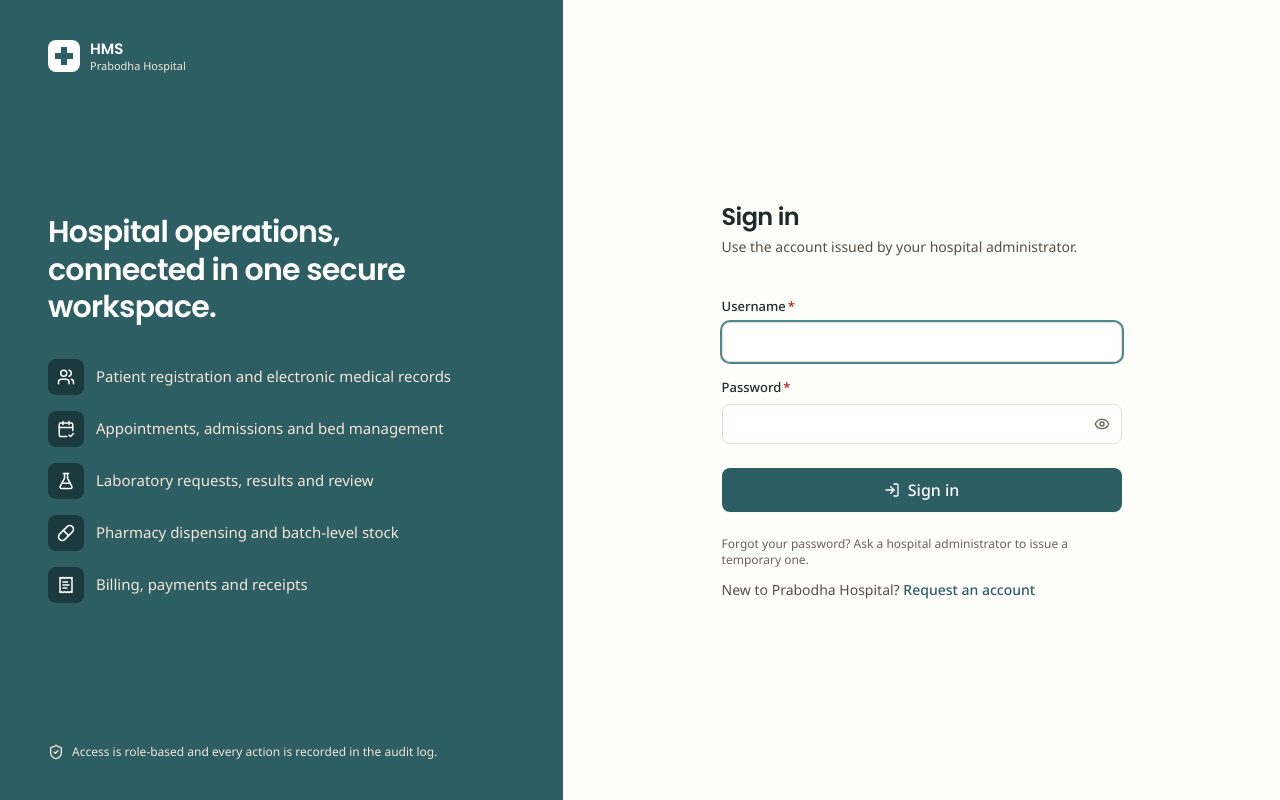
Test: LoginPage › shows the server message on bad credentials and clears the password
The image size is (1280, 800).
Step 1. Type "nimal" into the field labelled "Username*" → (922, 342), box [722,322,1122,362]
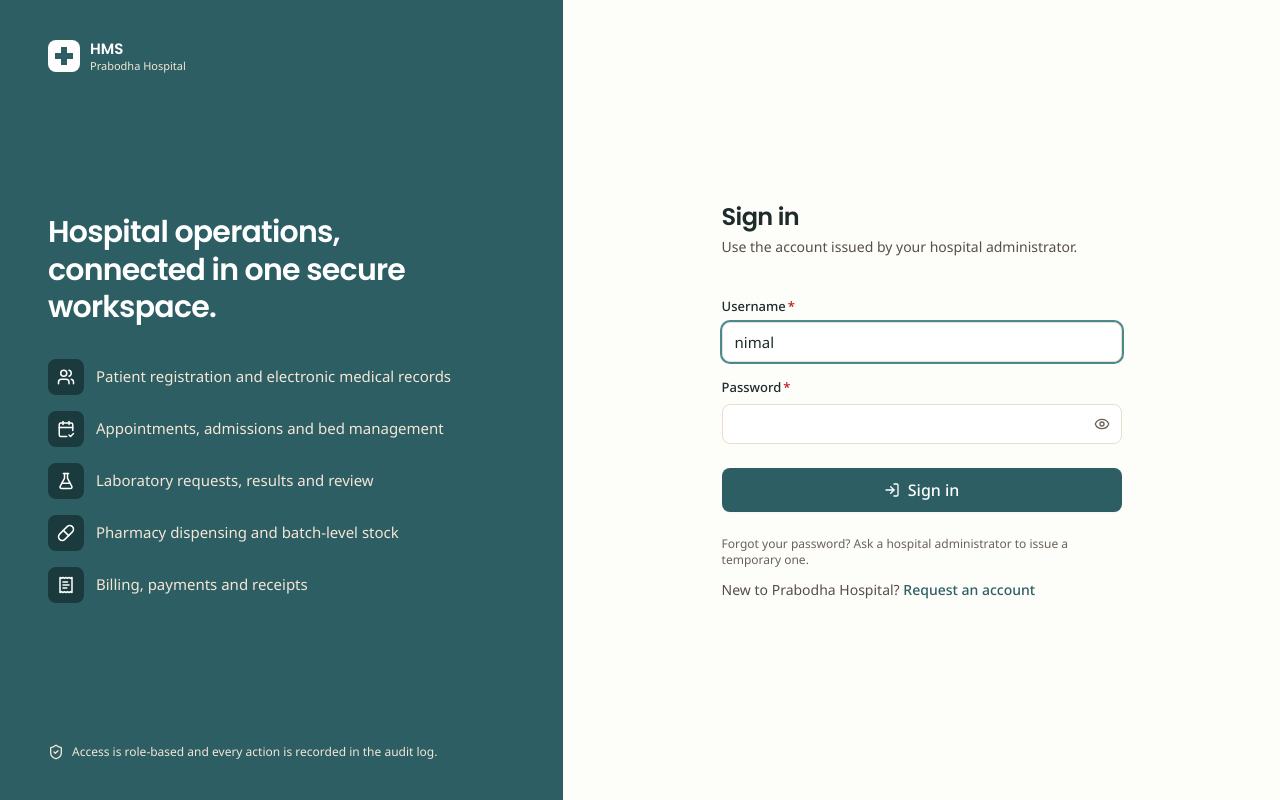
Step 2. Type "wrong-pass-1" into the password field labelled "Password*" → (922, 424), box [722,404,1122,444]
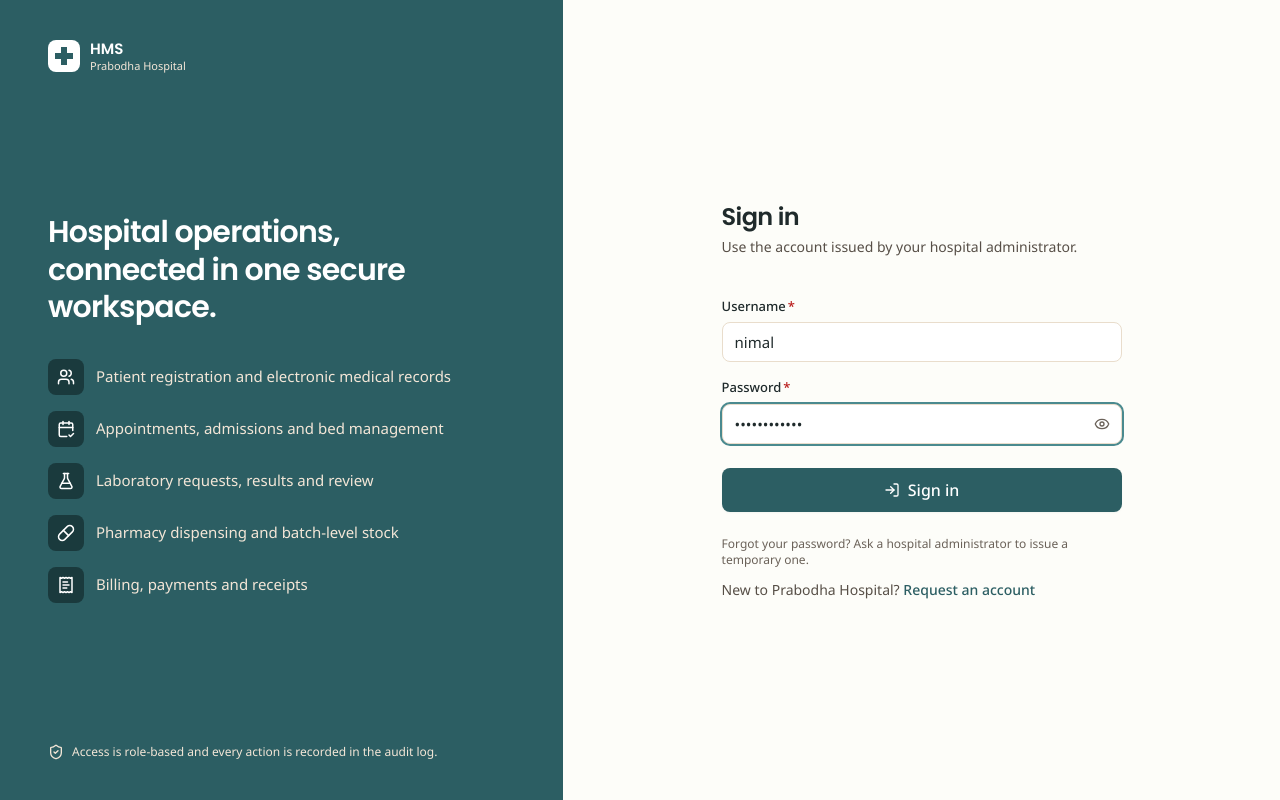
Step 3. Click the button "Sign in" → (922, 490), box [722,468,1122,512]
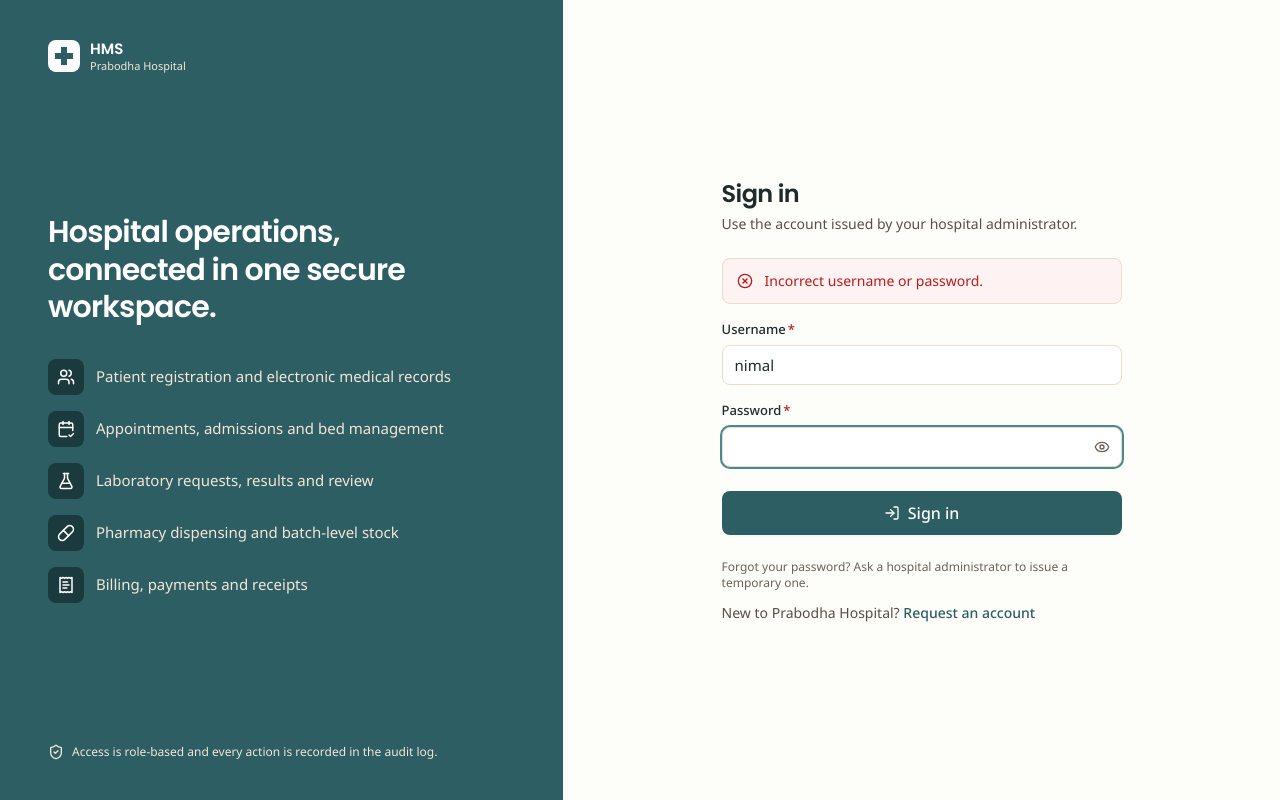
Expected: the message reads "Incorrect username or password.", [765,270,983,290]
Expected: the password field labelled "Password*" is empty, [722,426,1122,466]
